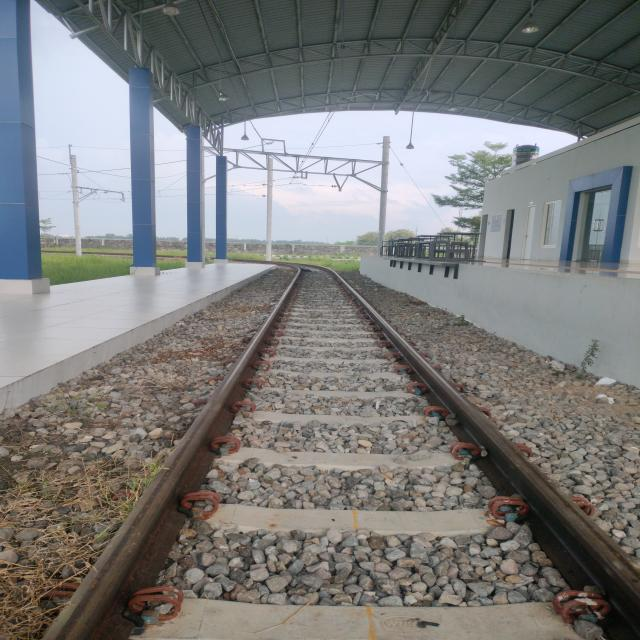rail-detection: (319, 267, 640, 640), (43, 270, 300, 640)
